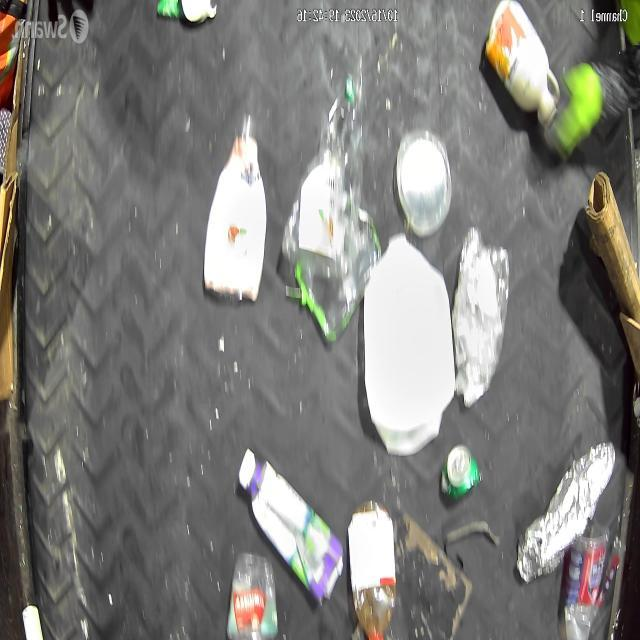can: (439, 444, 484, 499)
milk_jug: (363, 231, 455, 457)
